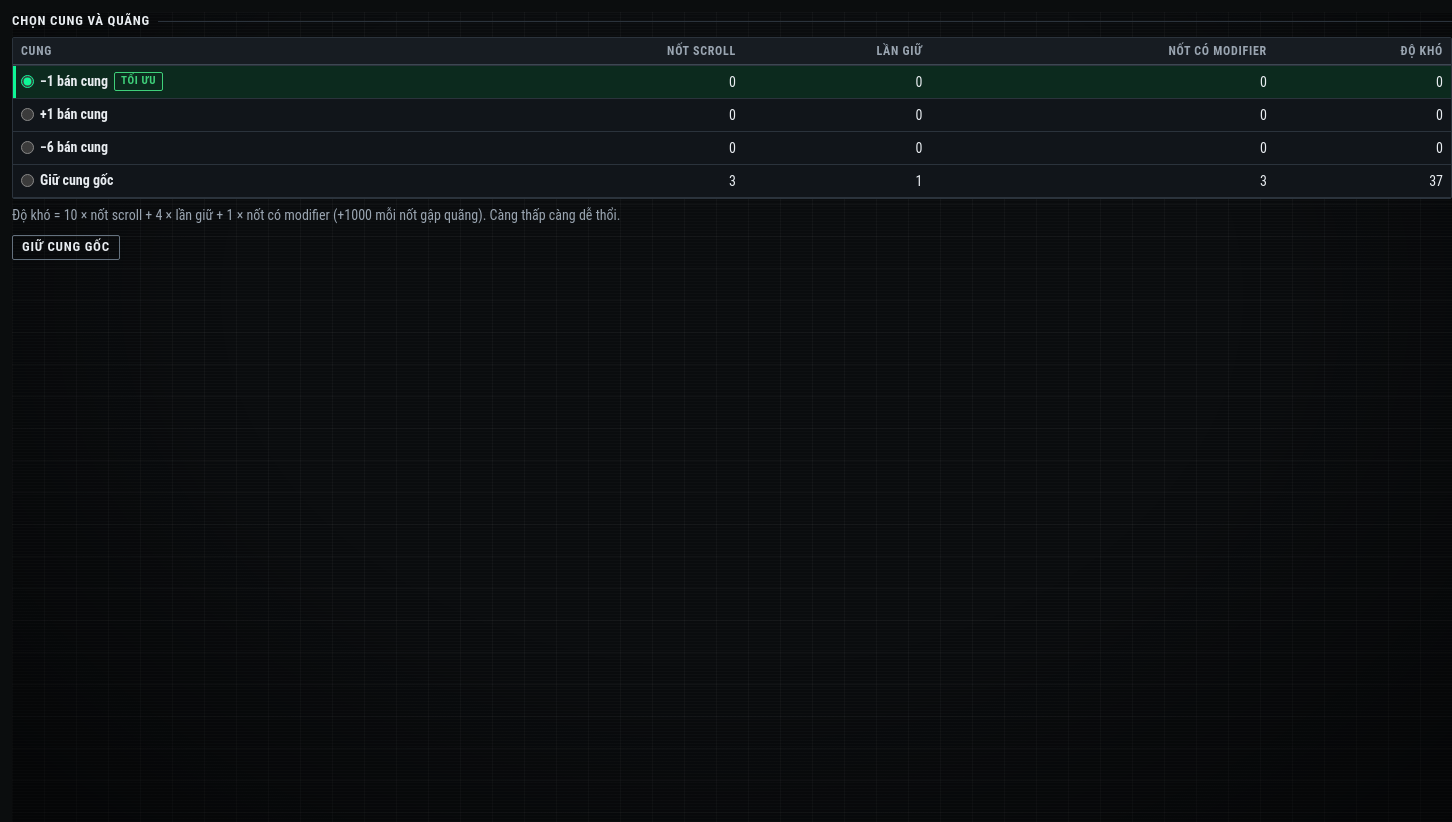
it: OptimizerPanel › "Giữ cung gốc" picks the best shift-0 placement even when it is not in the top 3
The image size is (1452, 822).
Expected: the radio button labelled "+1 bán cung" is shown, [21, 108, 34, 121]
Click the button "Giữ cung gốc" at coordinates (66, 247), box [12, 235, 120, 260]
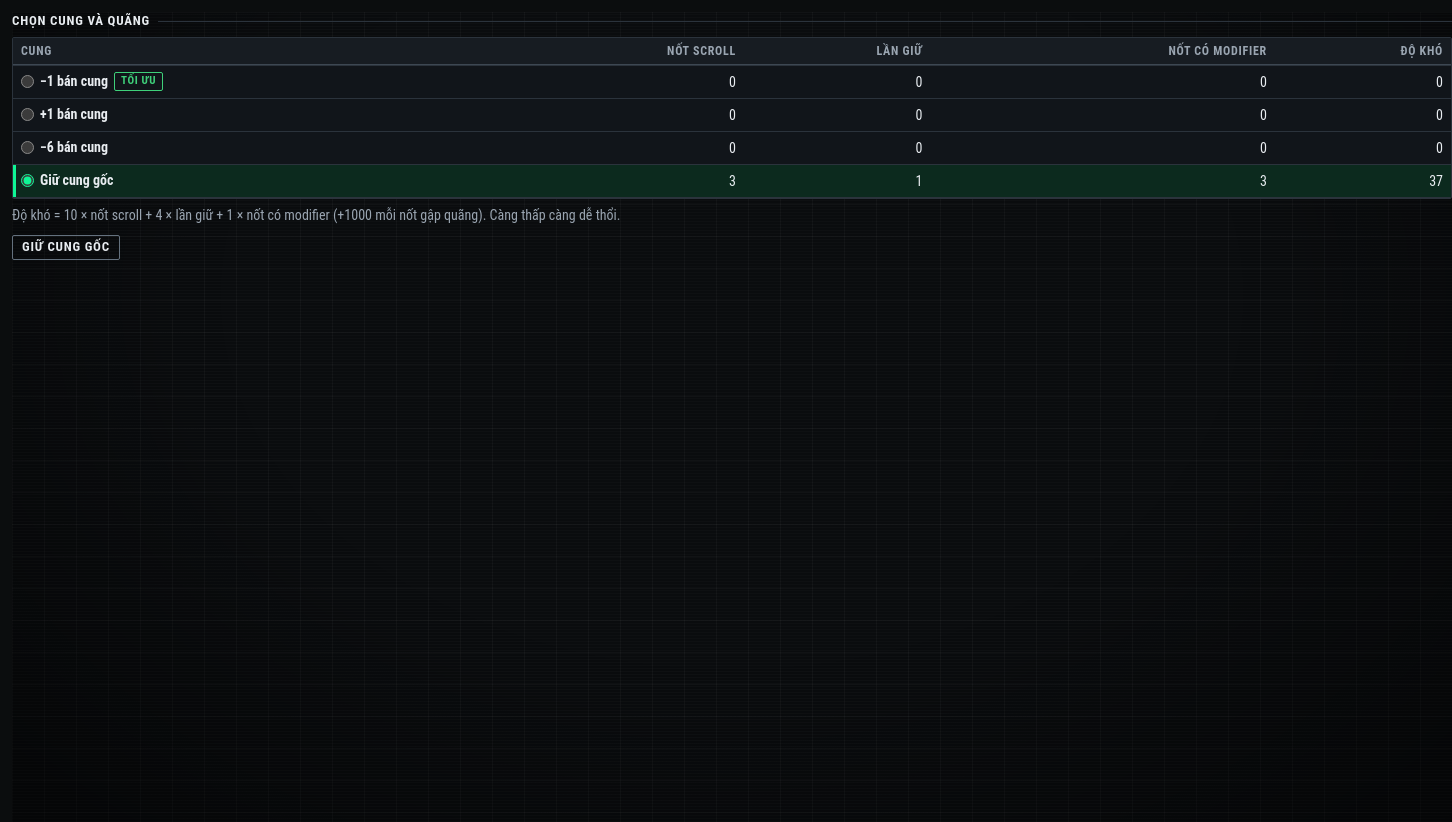
Result: the radio button labelled "Giữ cung gốc" is checked at [21, 174, 34, 187]
